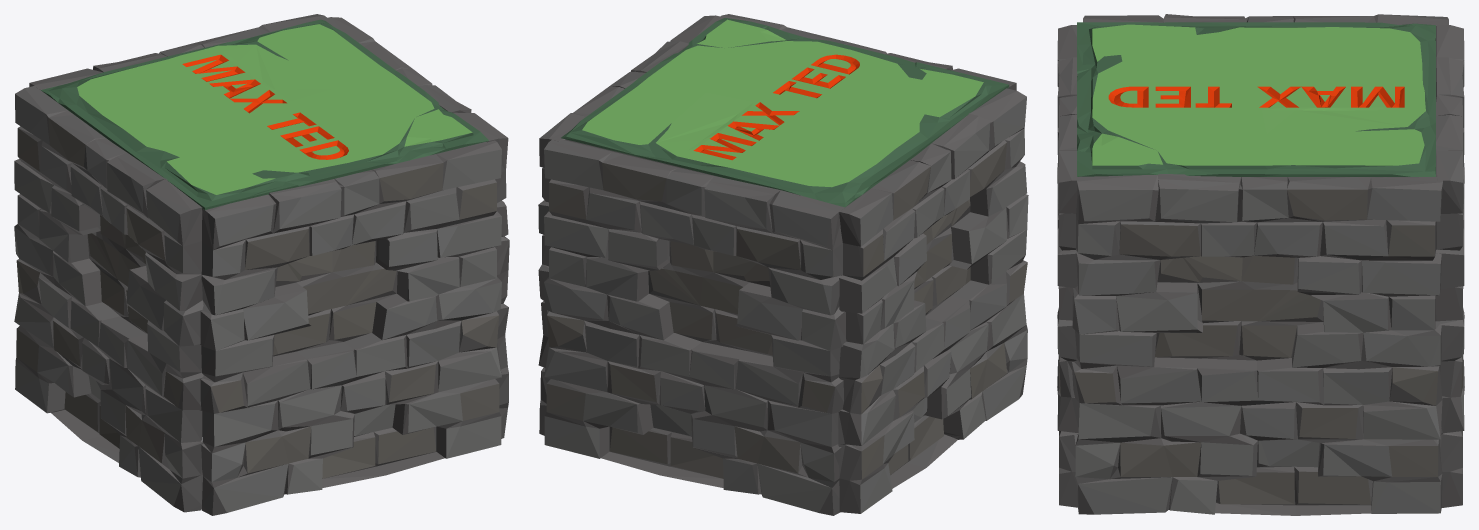
File: SM_Env_Coner_B_01.glb
3 views of the same model, side by side, from view 1: azimuth 30°, elevation 25°; view 2: azimuth 150°, elevation 25°; view 3: azimuth 270°, elevation 25° (orthographic). The views are drawn at different scales.
Parts seen in each view (by area): view 1: SM_Env_Coner_B_01; view 2: SM_Env_Coner_B_01; view 3: SM_Env_Coner_B_01.
Boxes of the visible parts, box(x1,y1,x2,y2) form: SM_Env_Coner_B_01: box(14, 14, 509, 515); SM_Env_Coner_B_01: box(538, 14, 1028, 515); SM_Env_Coner_B_01: box(1057, 14, 1464, 515).
Size of the model in its own units: 5.74 by 5.19 by 5.68.
Materials: 1 (1 with a texture image).
